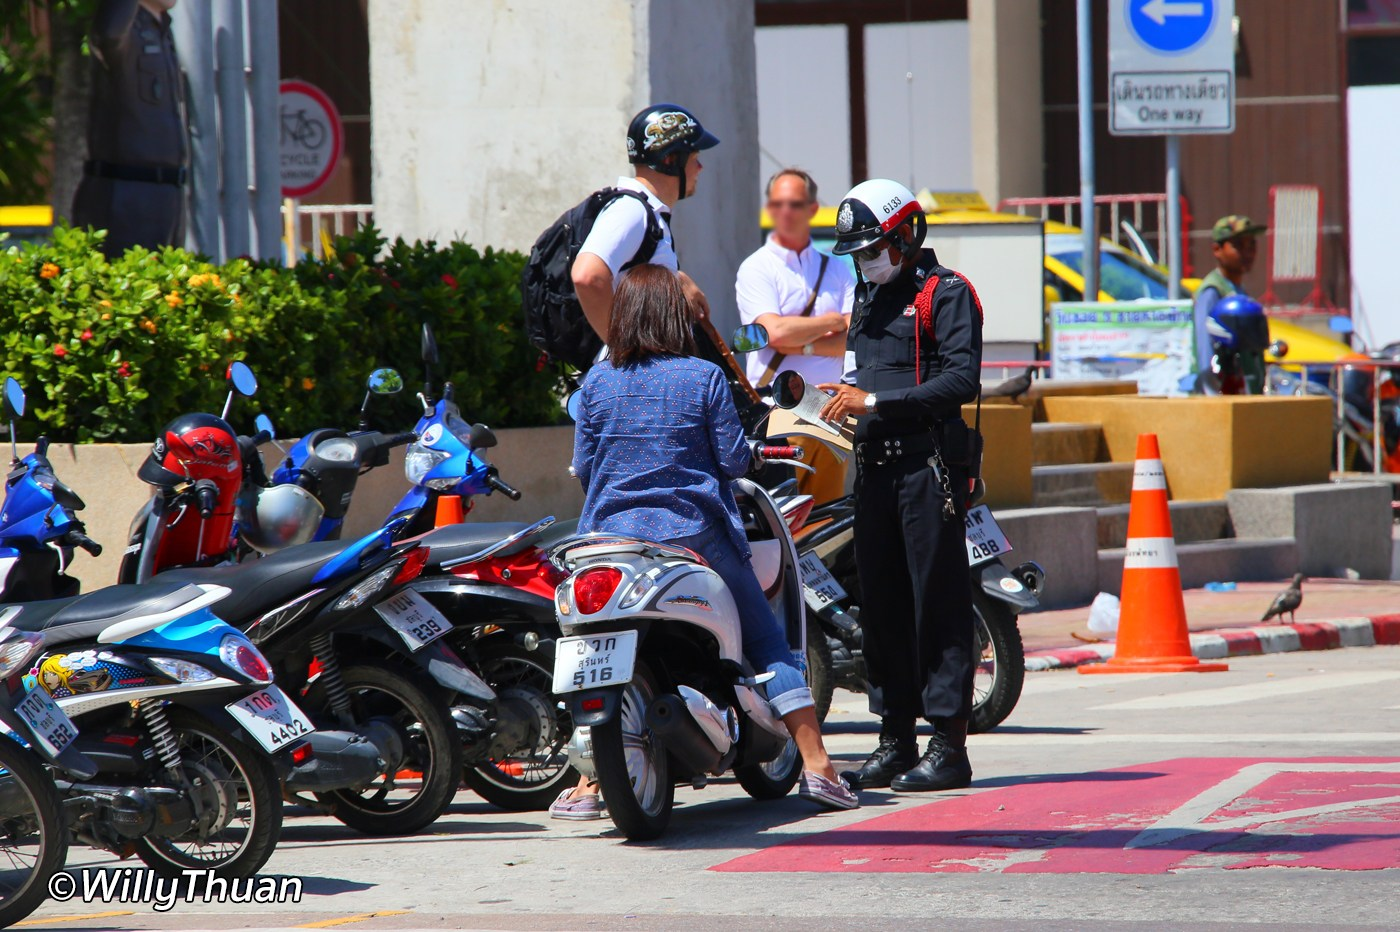helmet: (624, 90, 752, 230)
